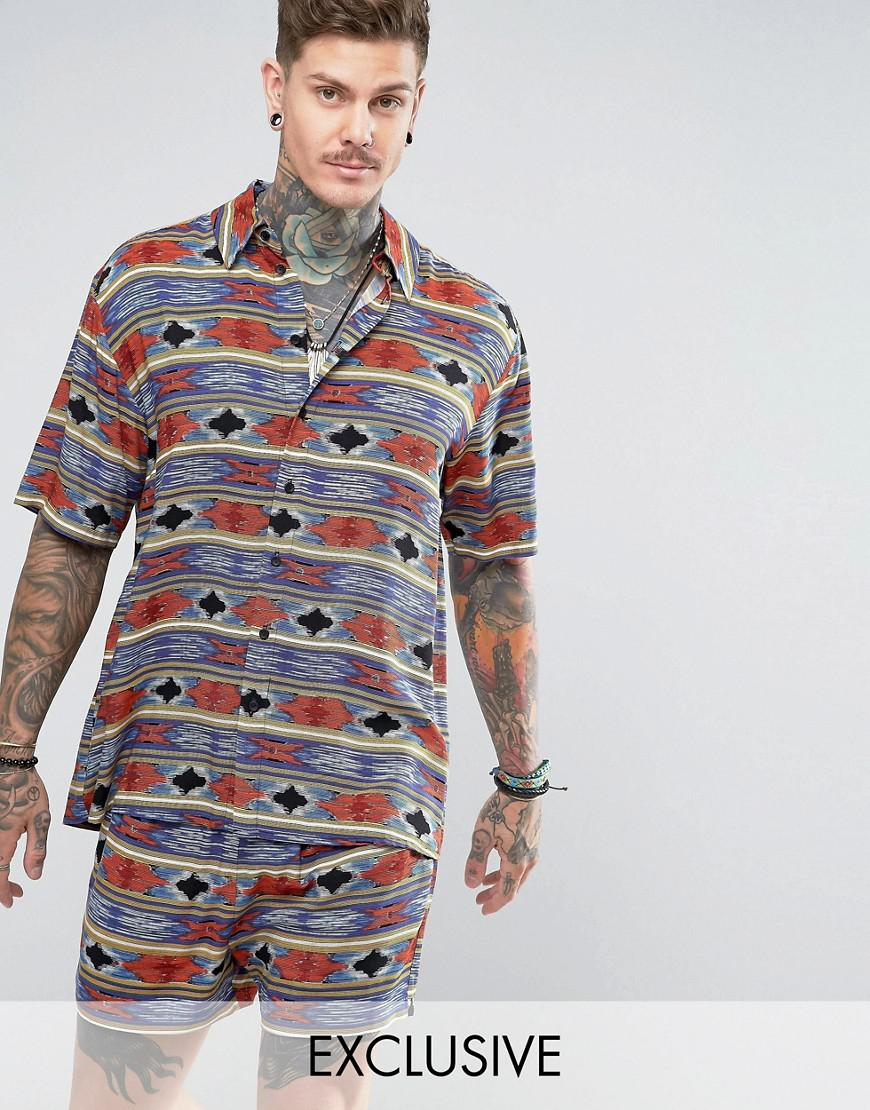teeshirt: (29, 183, 573, 888)
